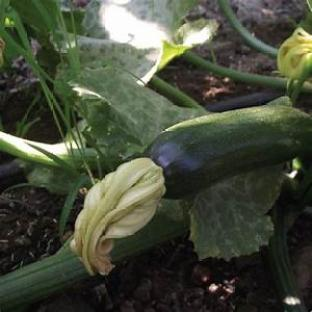Zucchini: (147, 106, 311, 198)
